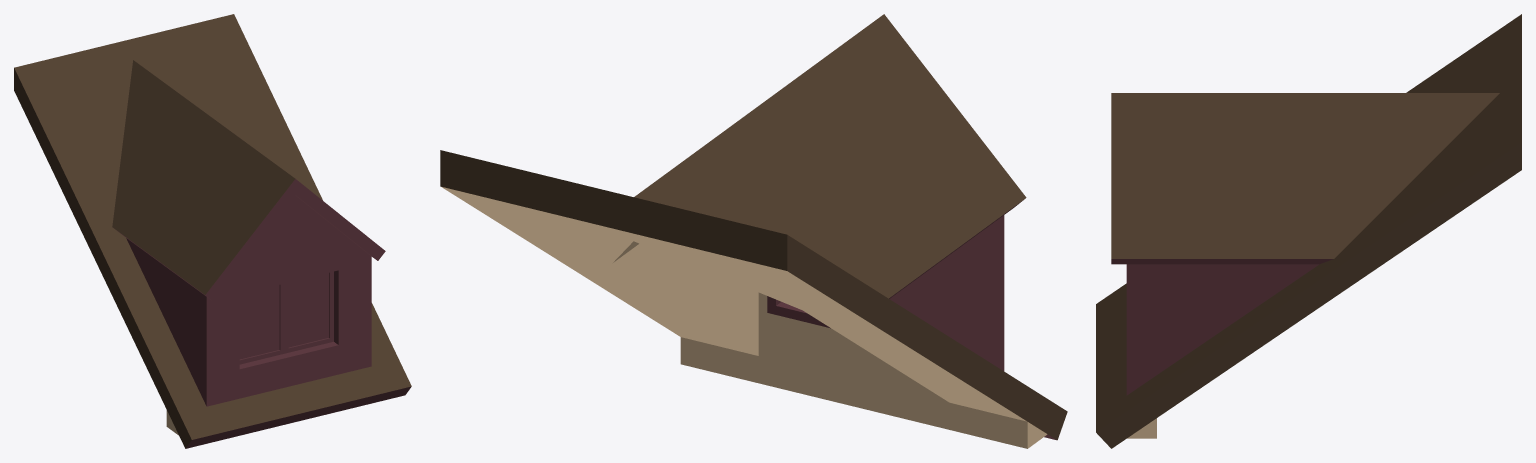
The model's file is house-roof-window-two-4x3m.fbx.
The picture shows the model from 3 angles, left to right: view 1: azimuth 30°, elevation 25°; view 2: azimuth 150°, elevation 25°; view 3: azimuth 270°, elevation 25°; orthographic projection. The views are drawn at different scales.
Visible parts, largest first — view 1: house-roof-window-two-4x3m; view 2: house-roof-window-two-4x3m; view 3: house-roof-window-two-4x3m.
Boxes of the visible parts, left/top/right/bottom form: house-roof-window-two-4x3m: left=14, top=14, right=411, bottom=448; house-roof-window-two-4x3m: left=440, top=14, right=1067, bottom=448; house-roof-window-two-4x3m: left=1096, top=14, right=1521, bottom=448.
Bounding box in the file's own units: 4 × 4.45 × 5.6.
